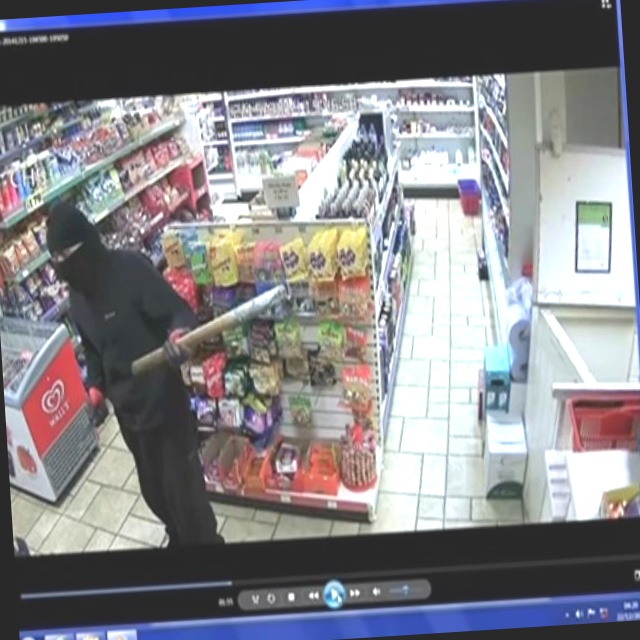gun: (116, 274, 301, 383), (71, 405, 110, 449)
